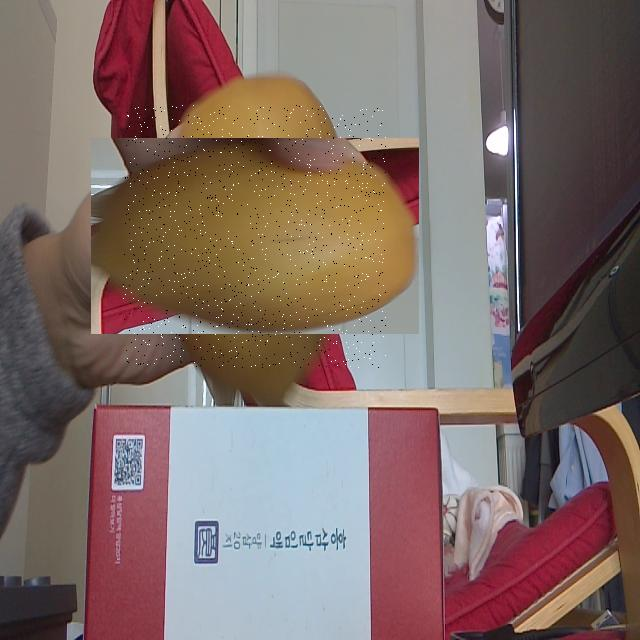pear: (123, 105, 386, 368)
